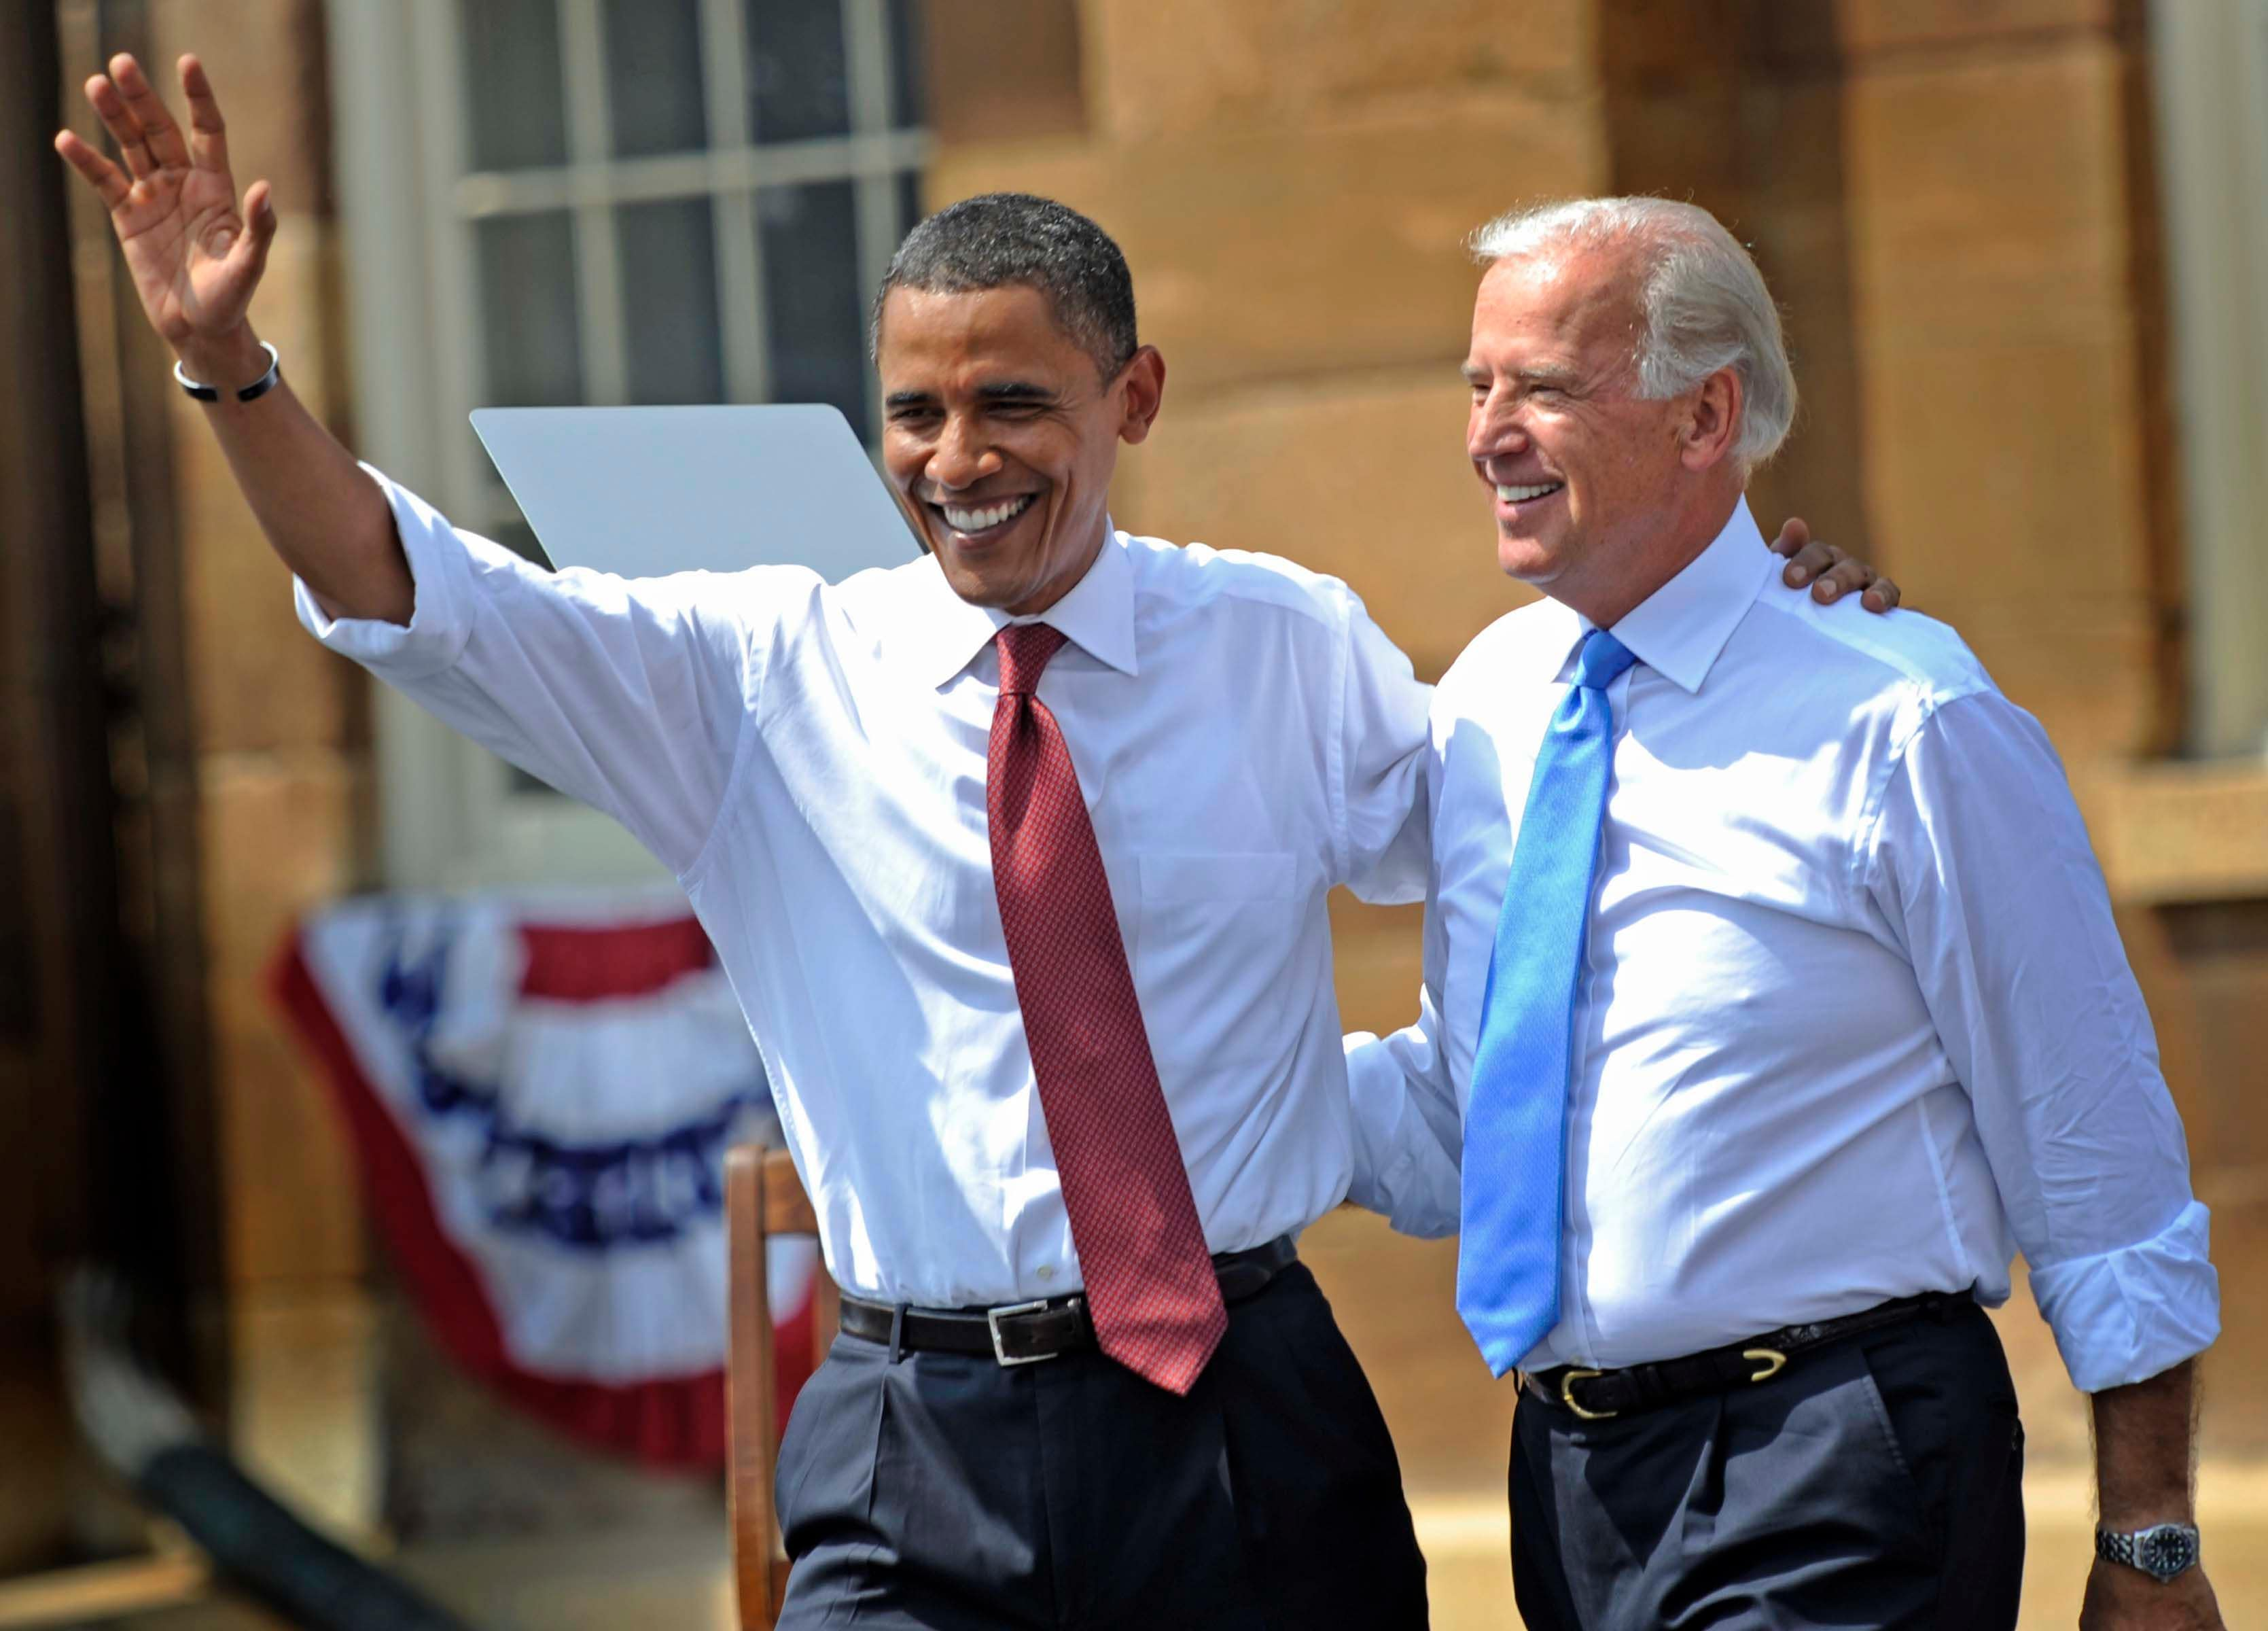Person: (48, 20, 1448, 1631), (1399, 188, 2252, 1631)
